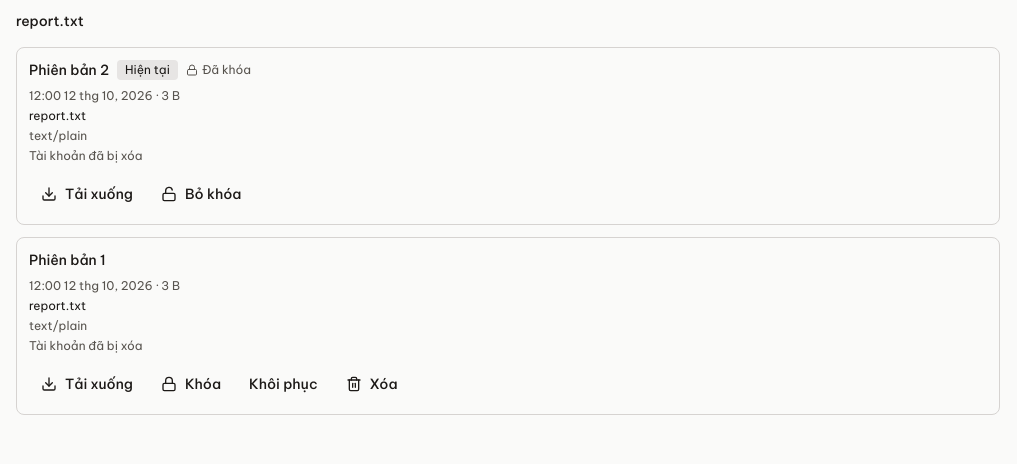
Test: owner toggles current and old retention only after success and handles errors
Click the button with aria-label "Khóa phiên bản 1" at (191, 384), box [149,366,233,402]
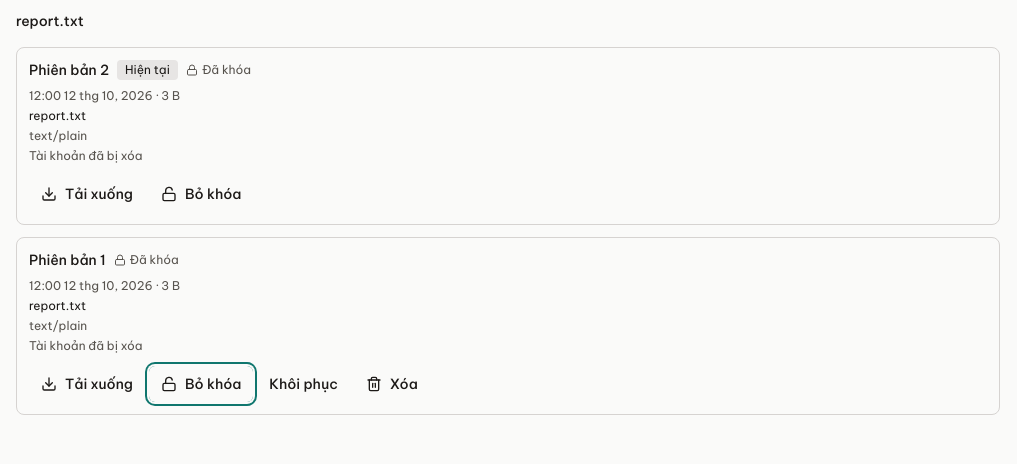
Expected: the button with aria-label "Khóa phiên bản 1" reads "Bỏ khóa", [149,366,253,402]
Click the button with aria-label "Khóa phiên bản 2" at (201, 194), box [149,176,253,212]
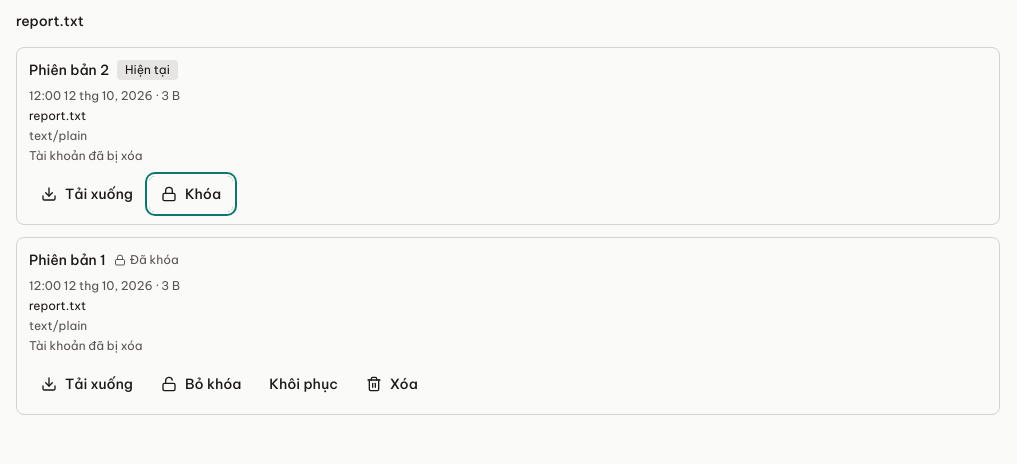
Expected: the button with aria-label "Khóa phiên bản 2" is not pressed, [149,176,233,212]
Click the button with aria-label "Khóa phiên bản 1" at (201, 384), box [149,366,253,402]
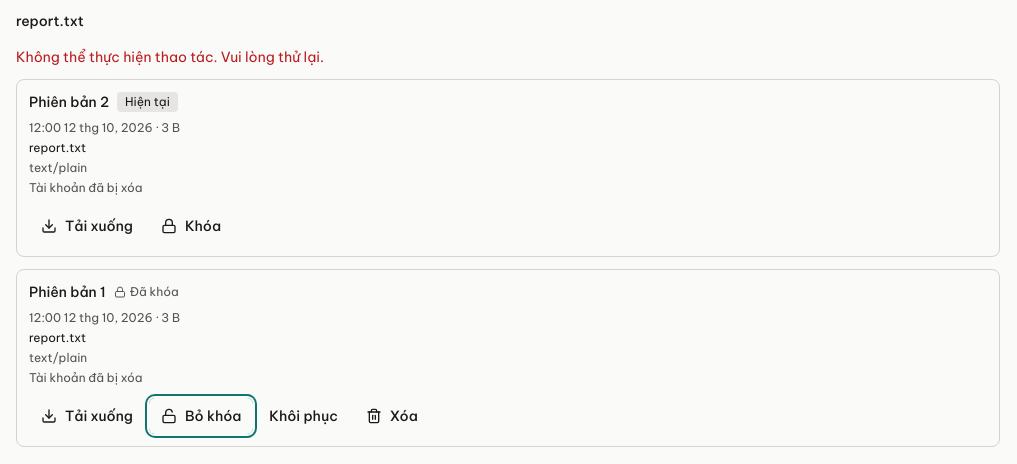
Expected: the message shows "Không thể thực hiện thao tác", [16,48,324,66]
